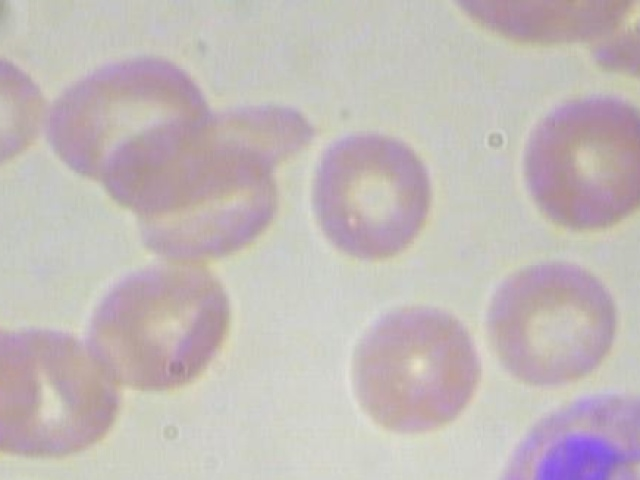RBC: (37, 40, 227, 205), (95, 91, 334, 220), (63, 252, 274, 398), (330, 290, 491, 443), (483, 246, 626, 397), (304, 121, 447, 271), (512, 86, 640, 244), (0, 307, 127, 462), (433, 0, 598, 57), (0, 35, 55, 192), (0, 468, 94, 480)
WBC: (481, 385, 640, 480)
